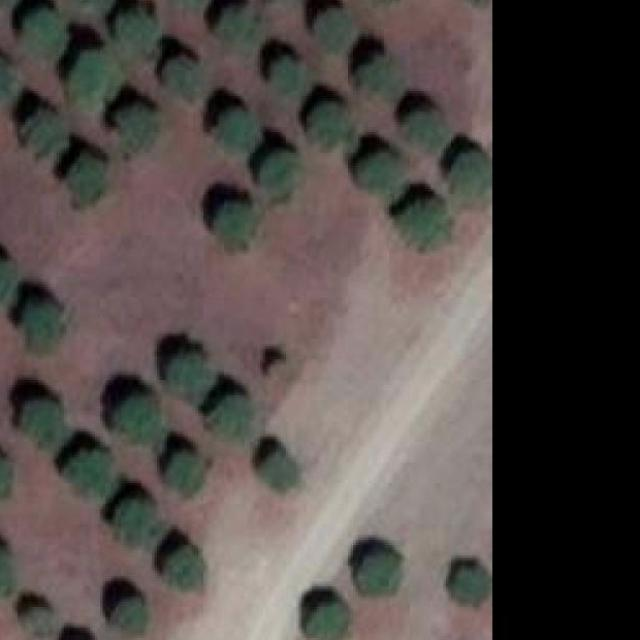Tree: (69, 50, 124, 104), (402, 196, 451, 246), (164, 354, 214, 399), (116, 398, 162, 443), (23, 302, 64, 352), (23, 13, 67, 58), (21, 400, 65, 445), (451, 148, 490, 197), (69, 452, 111, 497), (208, 398, 253, 440), (116, 502, 157, 548), (399, 109, 444, 148), (160, 548, 201, 590), (310, 104, 351, 146), (356, 556, 401, 594), (121, 101, 157, 148), (449, 566, 490, 607), (358, 55, 398, 96), (164, 450, 203, 491), (358, 153, 405, 187), (306, 602, 348, 640), (260, 153, 296, 197), (317, 8, 356, 48), (219, 6, 260, 44), (219, 202, 255, 244), (168, 58, 204, 99), (31, 111, 65, 153), (69, 158, 103, 199), (270, 60, 310, 94), (222, 111, 258, 148), (119, 18, 155, 52), (263, 450, 294, 486), (118, 600, 146, 634), (0, 255, 15, 300), (26, 607, 46, 633), (71, 0, 110, 13), (0, 59, 12, 101), (0, 550, 12, 591), (170, 0, 211, 8)
